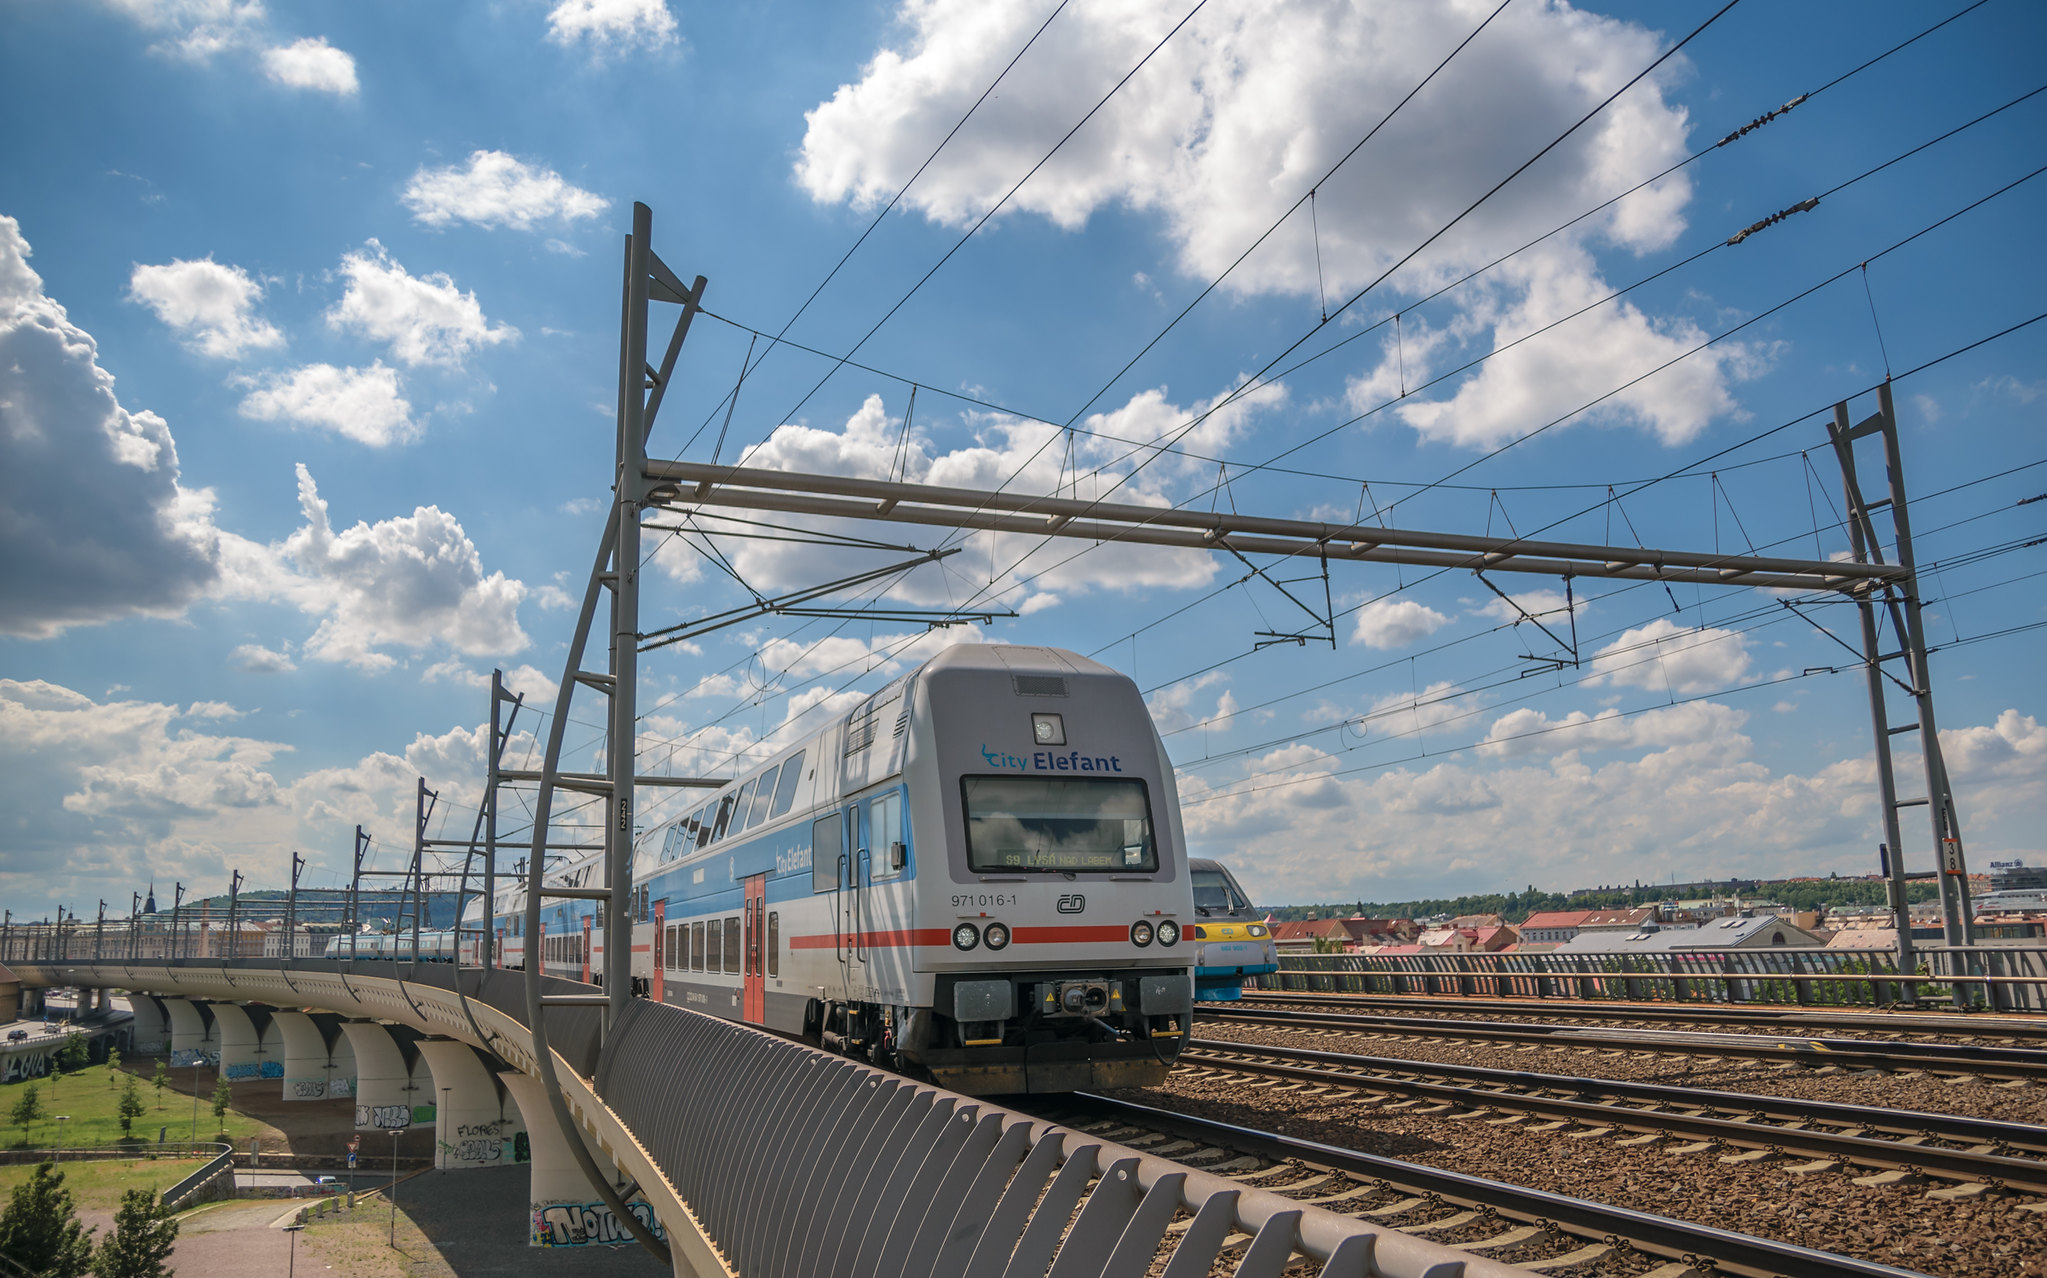train: (646, 664, 1269, 1103)
